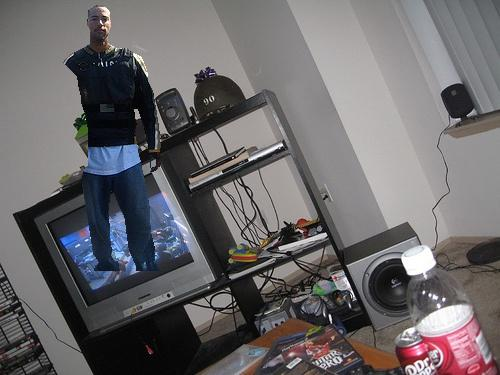tampered: (64, 6, 161, 271)
